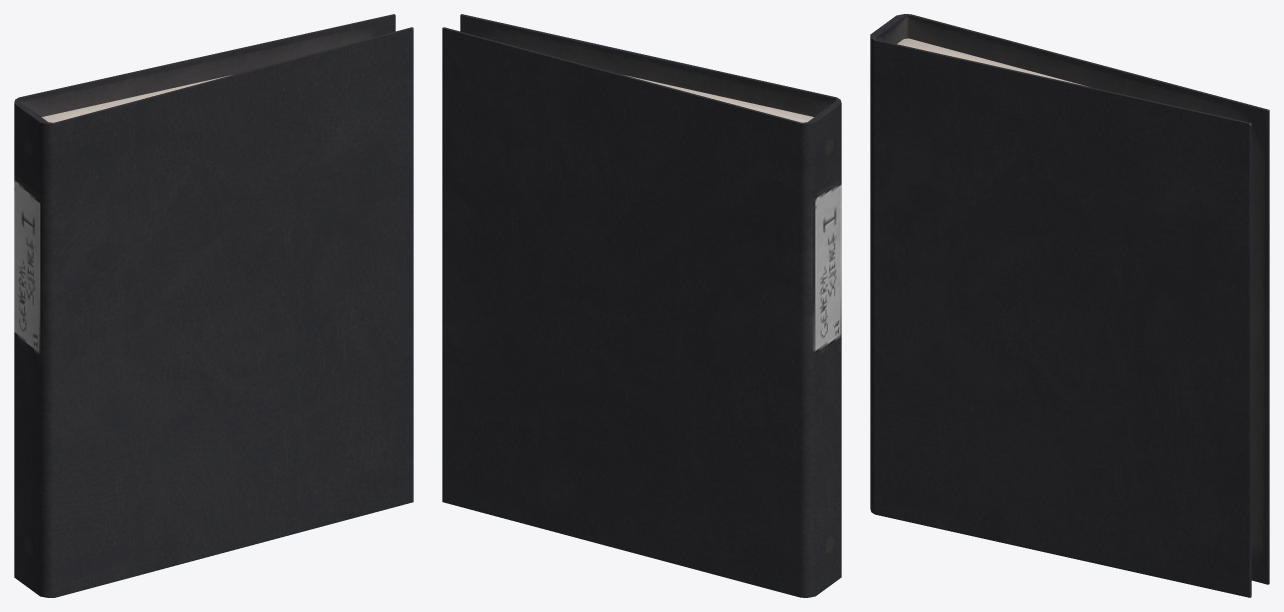
Rendered from SM_Binder_01f.fbx.
3 renders of one model, left to right at view 1: azimuth 30°, elevation 25°; view 2: azimuth 150°, elevation 25°; view 3: azimuth 330°, elevation 25°, orthographic.
Visible parts, largest first — view 1: SM_Binder_01f_LOD0; view 2: SM_Binder_01f_LOD0; view 3: SM_Binder_01f_LOD0.
Part boxes in pixels (box(x1,y1,x2,y2)): SM_Binder_01f_LOD0: box(14, 14, 413, 597); SM_Binder_01f_LOD0: box(442, 14, 841, 597); SM_Binder_01f_LOD0: box(870, 14, 1269, 597).
Size of the model in its own units: 27.47 by 4.57 by 33.01.
1 material, 1 textured.
